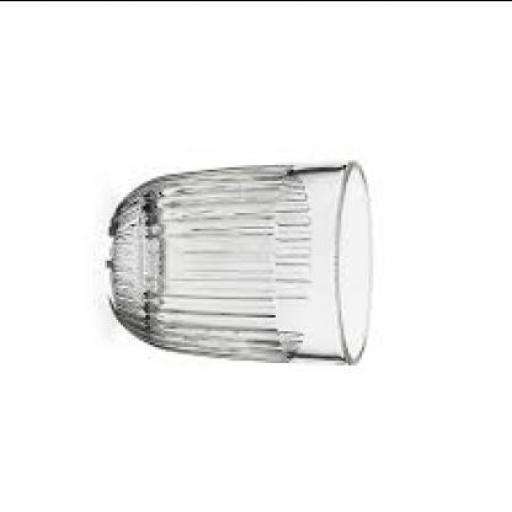glass: (107, 160, 373, 362)
